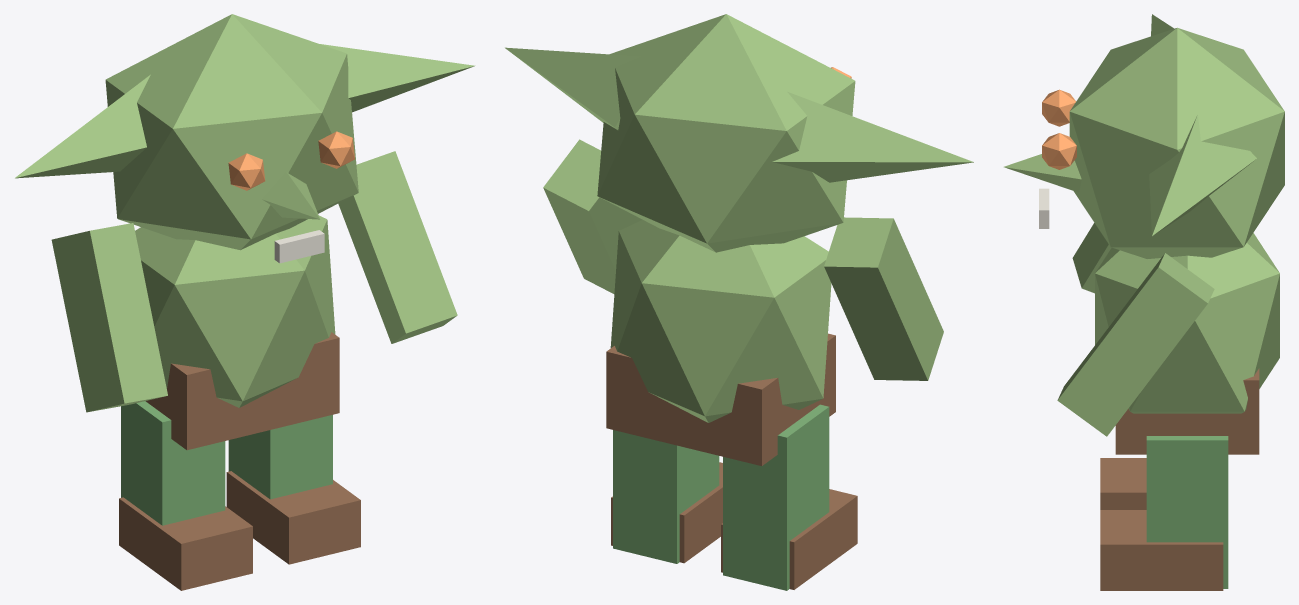
Rendered from npcpose_goblin_attack_12.glb.
3 views of the same model, side by side, from view 1: azimuth 30°, elevation 25°; view 2: azimuth 150°, elevation 25°; view 3: azimuth 270°, elevation 25° (orthographic). The views are drawn at different scales.
Visible parts, largest first — view 1: npcpose; view 2: npcpose; view 3: npcpose.
Boxes of the visible parts, x1,y1,x2,y2 form: npcpose: (15, 14, 475, 590); npcpose: (505, 14, 973, 590); npcpose: (1004, 14, 1284, 590).
Bounding box in the file's own units: 1.03 × 1.12 × 0.5501.
